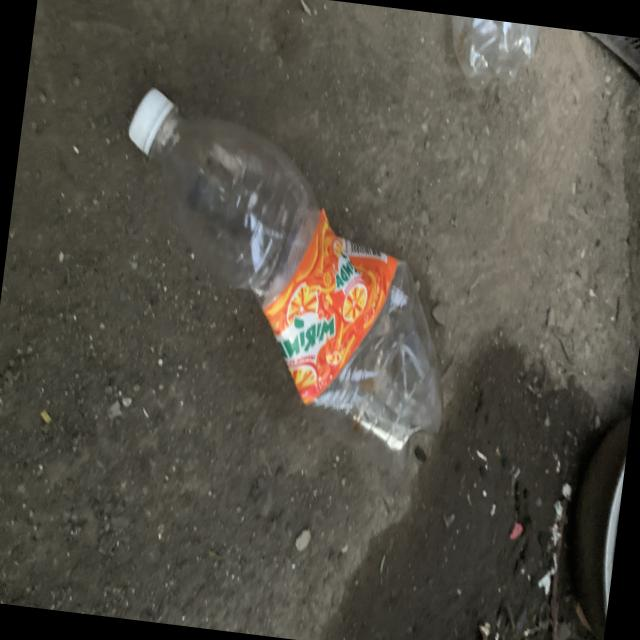Bottle: (128, 87, 441, 459)
